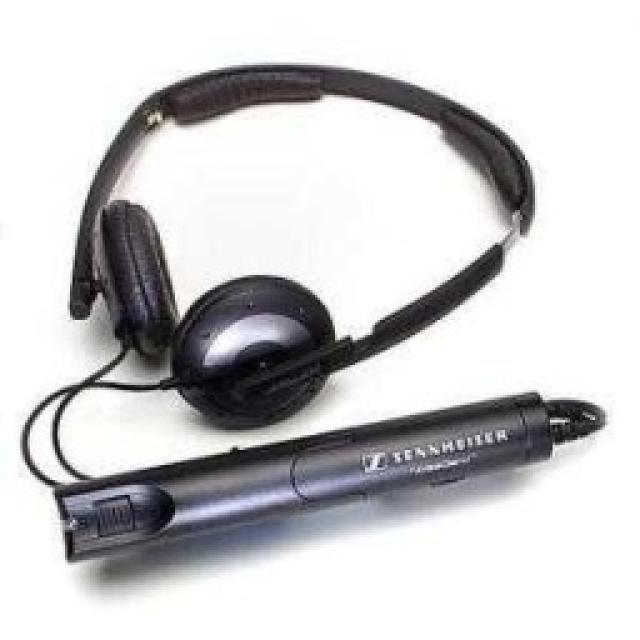headphones: (65, 58, 535, 428)
